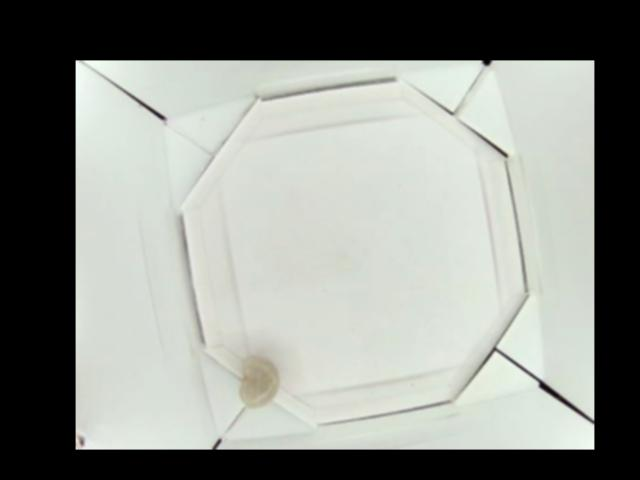Pebble: (240, 353, 277, 407)
